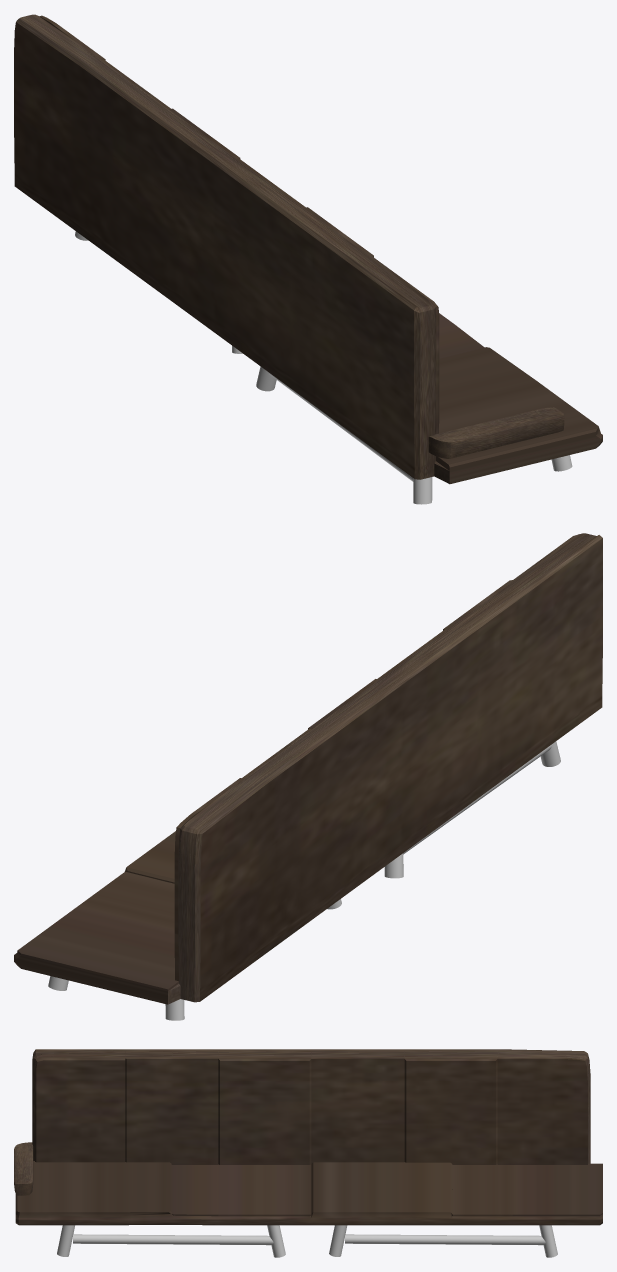
The model's file is sillonCafe.obj.
3 renders of one model, top to bottom at view 1: azimuth 30°, elevation 25°; view 2: azimuth 150°, elevation 25°; view 3: azimuth 270°, elevation 25°, orthographic. The views are drawn at different scales.
Parts seen in each view (by area): view 1: pCube3; view 2: pCube3; view 3: pCube3.
Boxes of the visible parts, x1,y1,x2,y2 form: pCube3: (14,14,602,504); pCube3: (14,533,602,1020); pCube3: (14,1049,602,1257).
Size of the model in its own units: 6.75 by 7.98 by 28.09.
